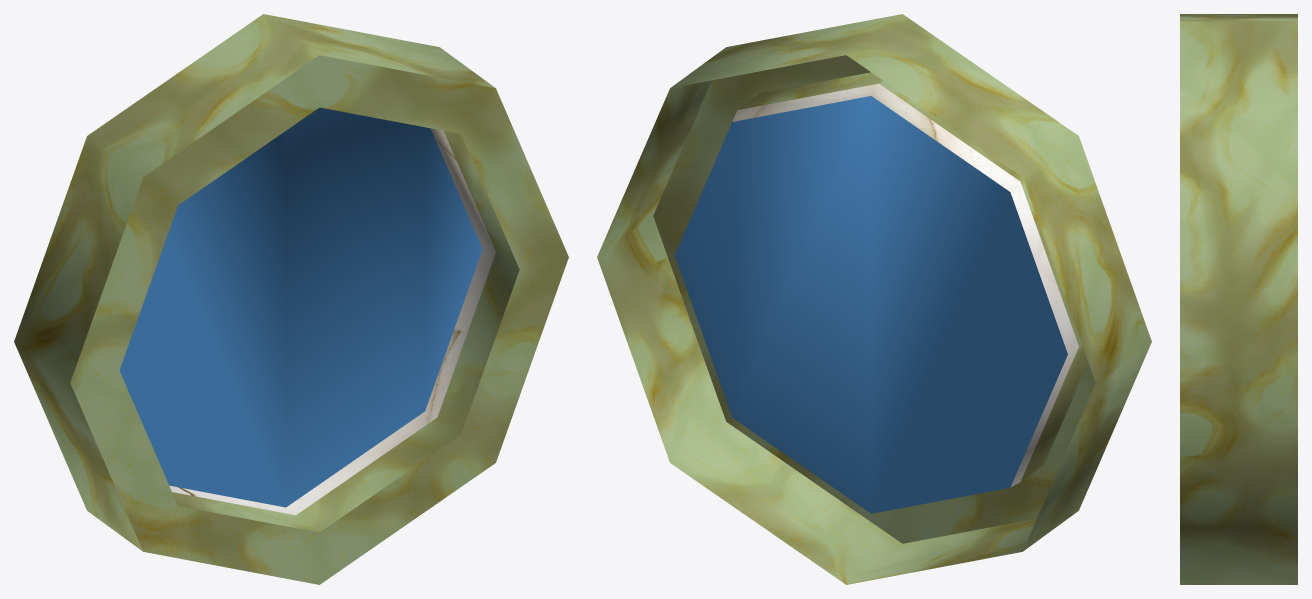
File: JoyPorthole.fbx
3 renders of one model, left to right at view 1: azimuth 30°, elevation 25°; view 2: azimuth 150°, elevation 25°; view 3: azimuth 270°, elevation 25°, orthographic. The views are drawn at different scales.
Visible parts, largest first — view 1: Cylinder.003; view 2: Cylinder.003; view 3: Cylinder.003.
Boxes of the visible parts, box(x1,y1,x2,y2) form: Cylinder.003: box(14, 14, 568, 584); Cylinder.003: box(597, 14, 1151, 584); Cylinder.003: box(1180, 14, 1297, 584).
Size of the model in its own units: 1.49 by 1.52 by 0.2915.
